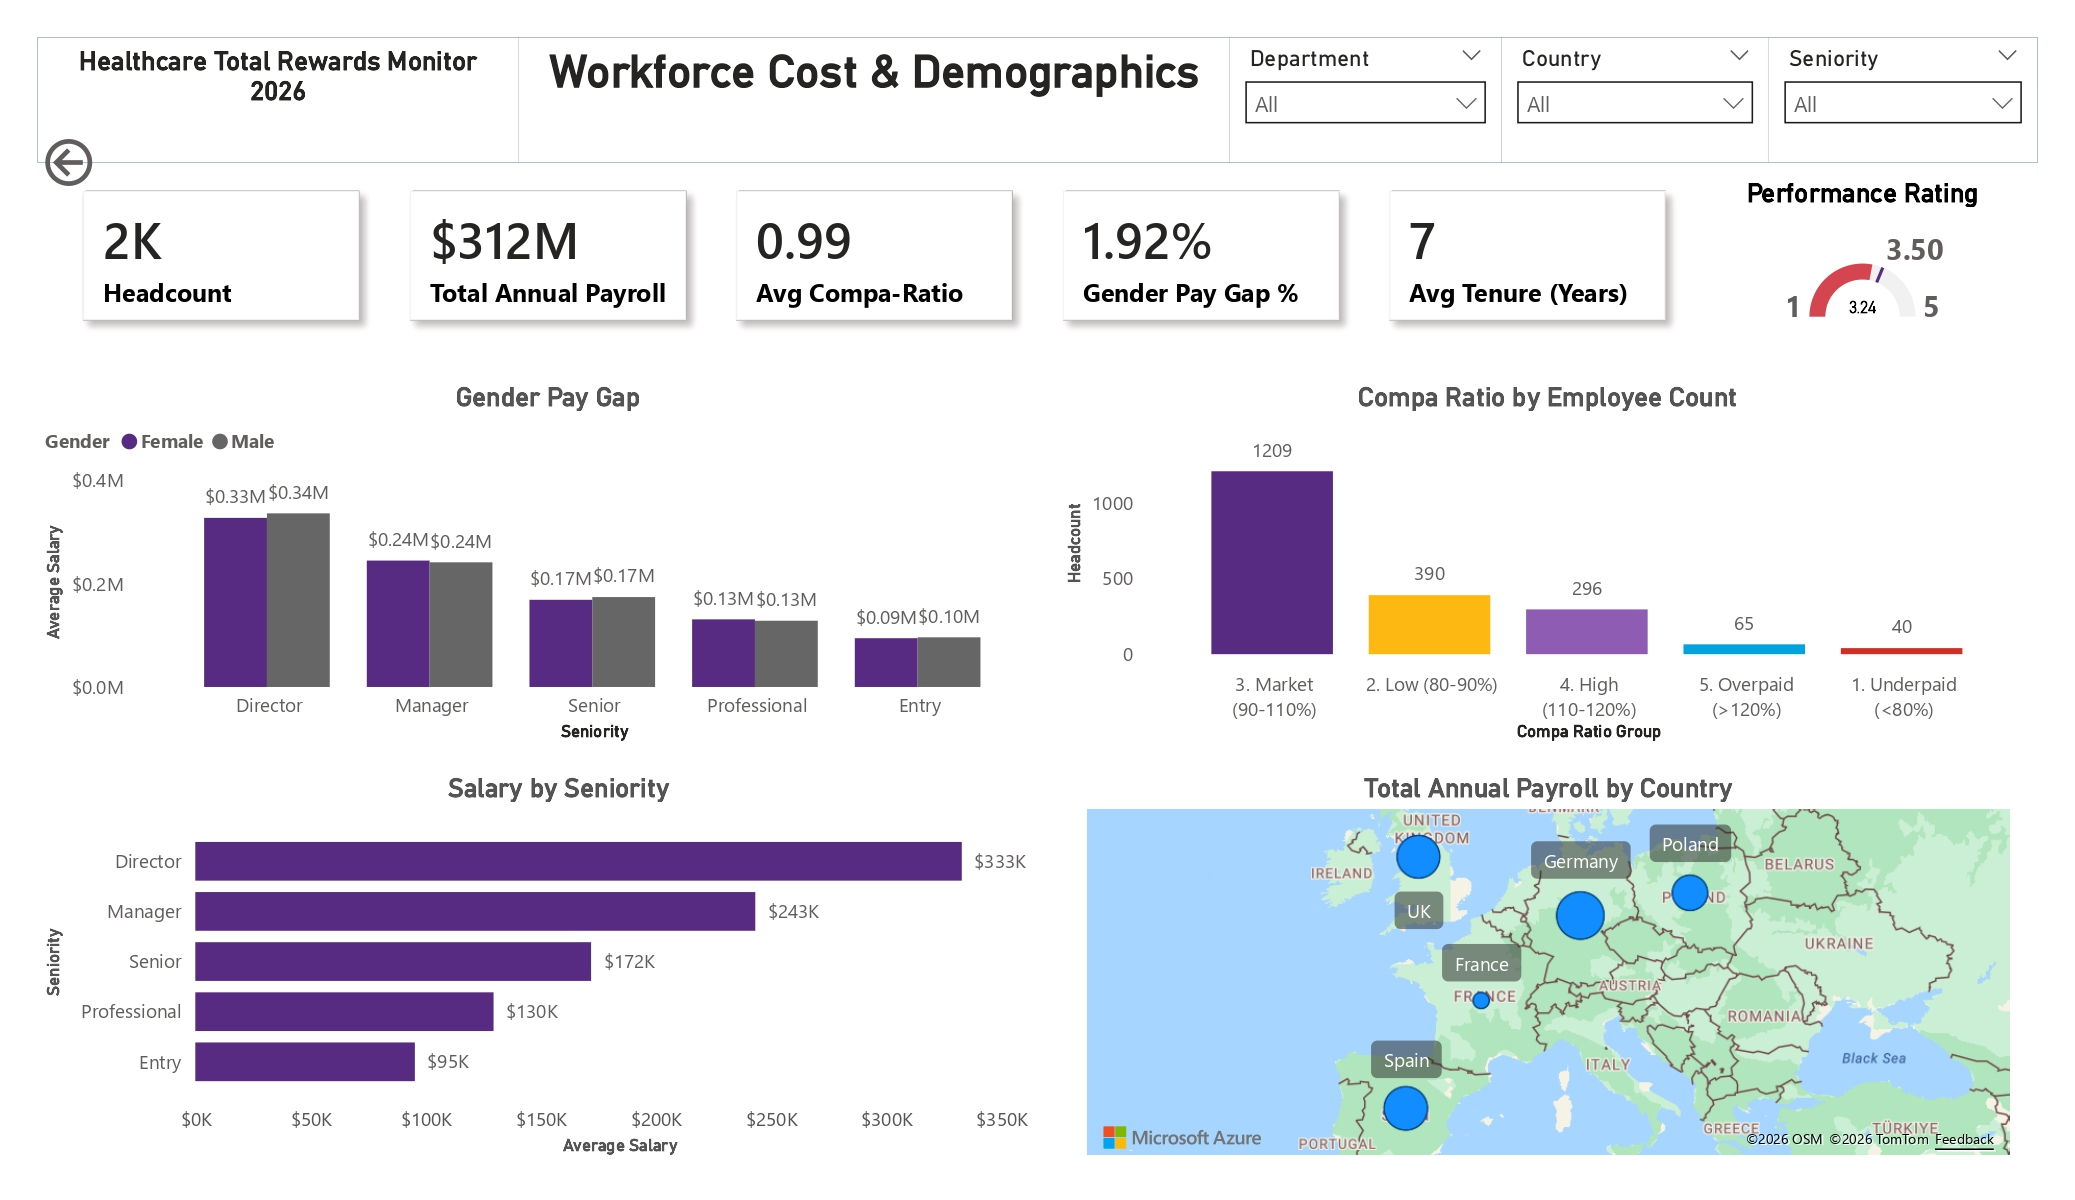

The page's visual inventory and layout, read from the dashboard file:
{"tool":"powerbi","page":{"name":"Finance and Fairness","canvas":[1280,720],"ordinal":0},"visuals":[{"type":"cardVisual","fields":{"Data":["DAX Measures (2).Headcount","DAX Measures (2).Total Annual Payroll","DAX Measures (2).Avg Compa-Ratio","DAX Measures (2).Gender Pay Gap %","DAX Measures (2).Avg Tenure (Years)"]},"box":[0.3,69.2,1072,140.6],"z":0},{"type":"shape","box":[0,0,1280,80],"z":1000},{"type":"azureMap","fields":{"Category":["GE_TotalRewards_Mock_Data.Country"],"Size":["DAX Measures (2).Total Annual Payroll"]},"box":[666.7,470,600,250],"z":2000},{"type":"clusteredColumnChart","title":"Compa Ratio by Employee Count","fields":{"Category":["GE_TotalRewards_Mock_Data.Compa Ratio Group"],"Y":["DAX Measures (2).Headcount"]},"box":[653.3,220,626.7,235],"z":3000},{"type":"clusteredColumnChart","title":"Gender Pay Gap","fields":{"Category":["GE_TotalRewards_Mock_Data.Job_Level"],"Y":["DAX Measures (2).Avg Base Salary"],"Series":["GE_TotalRewards_Mock_Data.Gender"]},"box":[0,220,653.3,235],"z":4000},{"type":"clusteredBarChart","title":"Salary by Seniority","fields":{"Category":["GE_TotalRewards_Mock_Data.Job_Level"],"Y":["DAX Measures (2).Avg Base Salary"]},"box":[0,470,667,250],"z":5000},{"type":"slicer","fields":{"Values":["GE_TotalRewards_Mock_Data.Department"]},"box":[763.3,0,173.3,80],"z":6000},{"type":"slicer","fields":{"Values":["GE_TotalRewards_Mock_Data.Country"]},"box":[936.7,0,171.7,80],"z":7000},{"type":"slicer","fields":{"Values":["GE_TotalRewards_Mock_Data.Job_Level"]},"box":[1108.3,0,171.7,80],"z":8000},{"type":"textbox","box":[0,0,308.3,80],"z":9000},{"type":"textbox","box":[308.3,0,455,80],"z":10000},{"type":"actionButton","box":[0,60,100,40],"z":11000},{"type":"gauge","title":"Performance Rating","fields":{"Y":["DAX Measures (2).AVG Performance Rating"],"MinValue":["DAX Measures (2).Min Performance Rating"],"MaxValue":["DAX Measures (2).Max Performance Rating"],"TargetValue":["DAX Measures (2).Target Rating"]},"box":[1056.1,89.5,223.7,99.1],"z":12001}]}

Visuals, with their boxes on the page's 1280x720 design canvas (x1, y1, x2, y2). These are canvas units, not pixel positions in the 2075x1200 screenshot, which may show the page scaled, cropped or inside an application window:
cardVisual - DAX Measures (2).Headcount x DAX Measures (2).Total Annual Payroll: (0, 69, 1072, 210)
shape: (0, 0, 1280, 80)
azureMap - GE_TotalRewards_Mock_Data.Country x DAX Measures (2).Total Annual Payroll: (667, 470, 1267, 720)
"Compa Ratio by Employee Count" clusteredColumnChart: (653, 220, 1280, 455)
"Gender Pay Gap" clusteredColumnChart: (0, 220, 653, 455)
"Salary by Seniority" clusteredBarChart: (0, 470, 667, 720)
slicer - GE_TotalRewards_Mock_Data.Department: (763, 0, 937, 80)
slicer - GE_TotalRewards_Mock_Data.Country: (937, 0, 1108, 80)
slicer - GE_TotalRewards_Mock_Data.Job_Level: (1108, 0, 1280, 80)
textbox: (0, 0, 308, 80)
textbox: (308, 0, 763, 80)
actionButton: (0, 60, 100, 100)
"Performance Rating" gauge: (1056, 90, 1280, 189)
